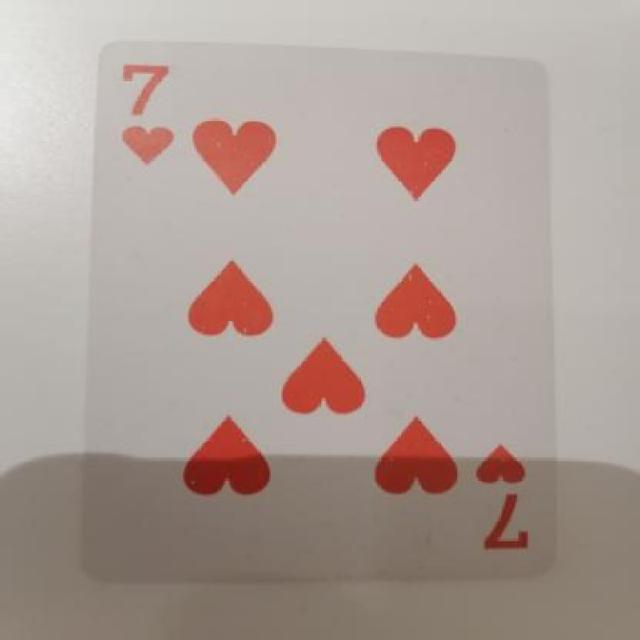7H: (455, 424, 559, 571), (99, 55, 184, 179)
